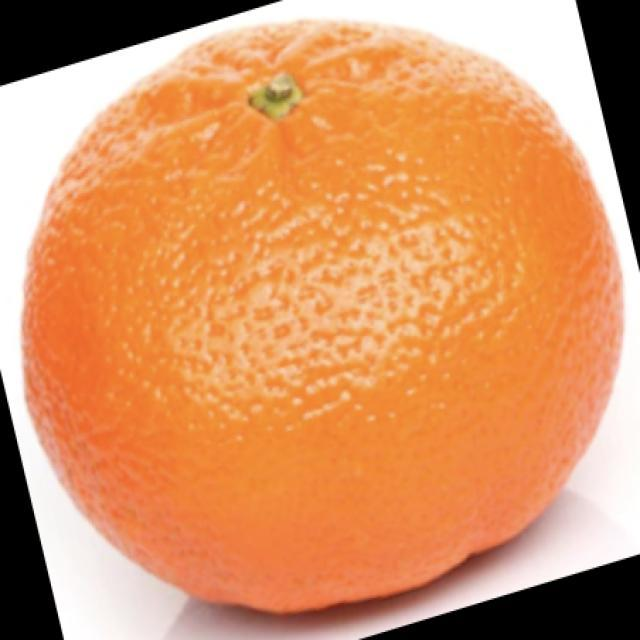matang: (24, 23, 622, 609)
